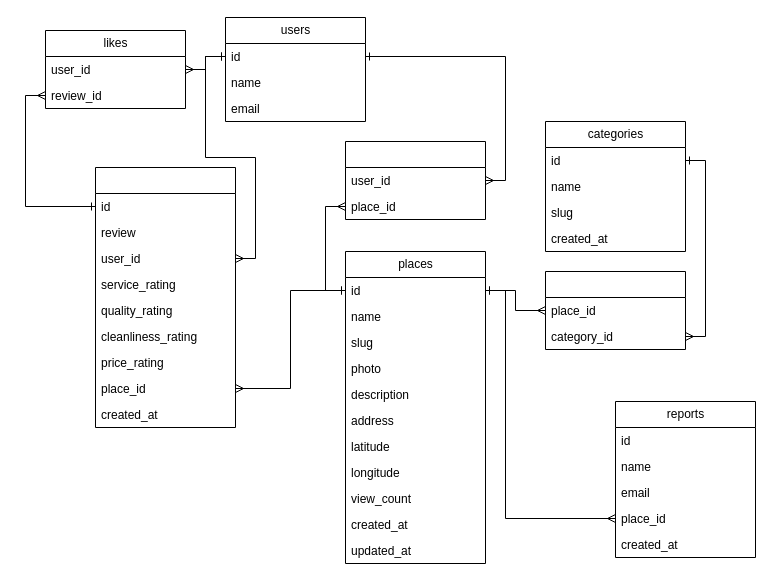
This 773x584 diagram has some shape labels left out. Here are the shapes that lost their labels. From the top down, the box of each, then its label:
(344, 140, 486, 220): bookmarks
(94, 166, 236, 428): reviews
(544, 270, 686, 350): place_category
